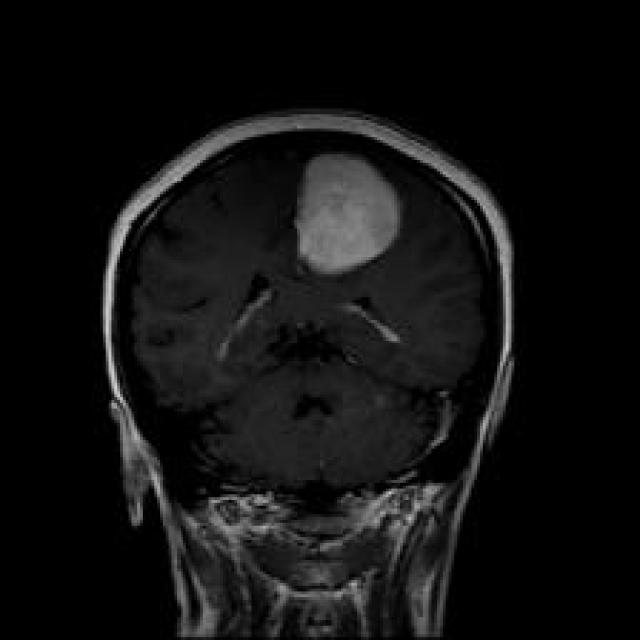meningioma_tumor: (285, 139, 411, 289)
